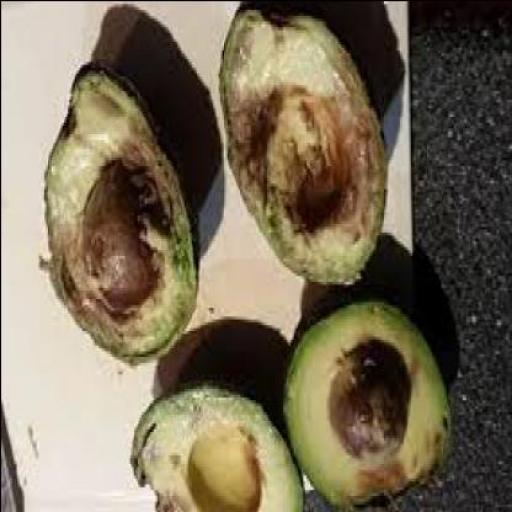biodegradable: (219, 3, 388, 292), (43, 58, 199, 368), (283, 294, 457, 511), (130, 364, 308, 511), (83, 168, 162, 318), (327, 348, 409, 468)
